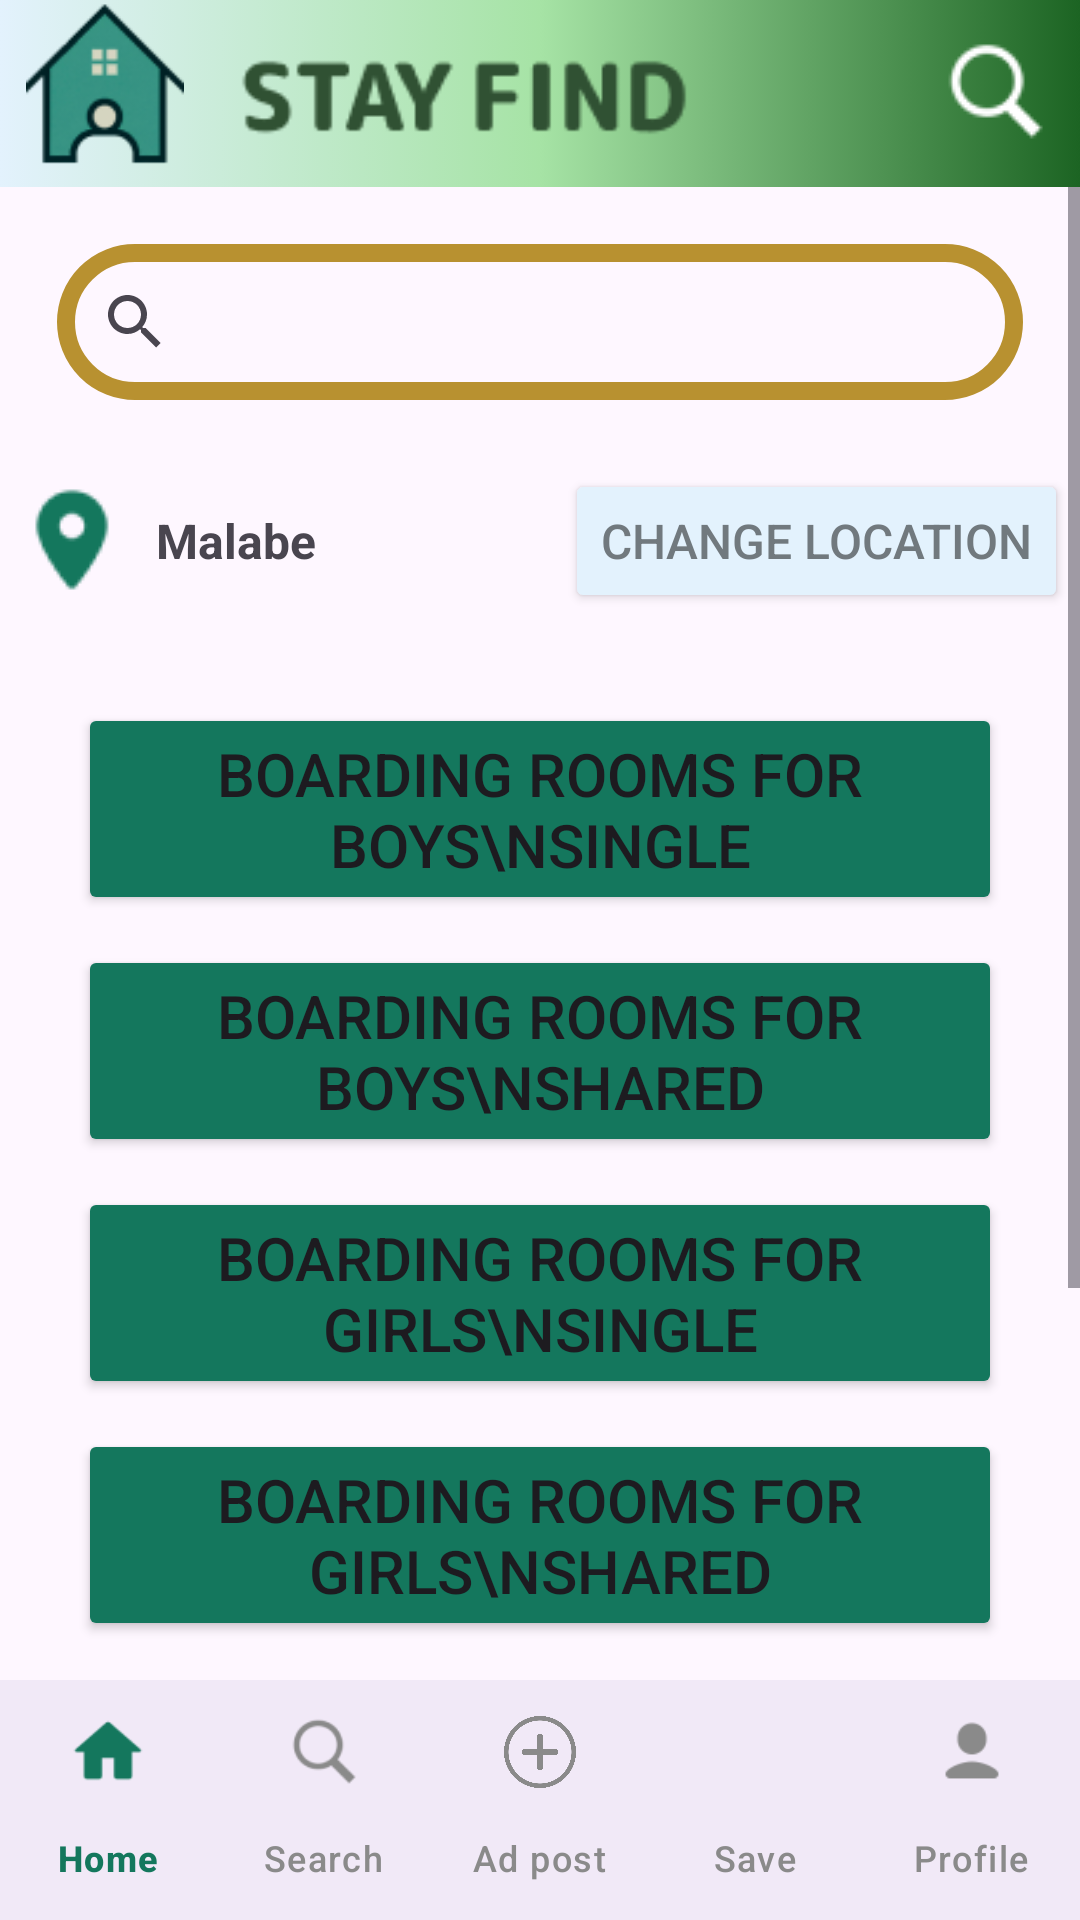

Locate icon controls on the screen. Image size 1080 x 1920, boxes as (x1, y1, x2, y2).
headersearch: (943, 39, 1043, 144)
location: (35, 489, 109, 590)
